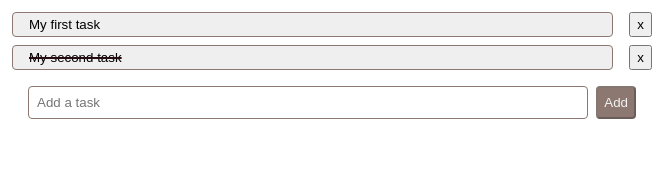
it: TodoListPanel › when added a new todo › should update the list
Step 1. Type "My third task" into the field with placeholder "Add a task" → [308, 102], box [28,86,588,119]
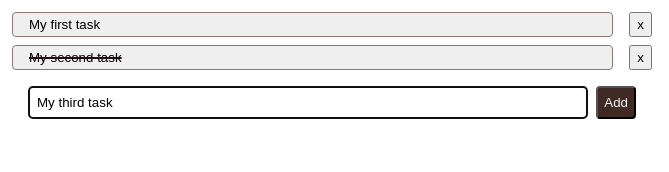
Step 2. Click the button "Add" → [616, 102], box [596,86,636,119]
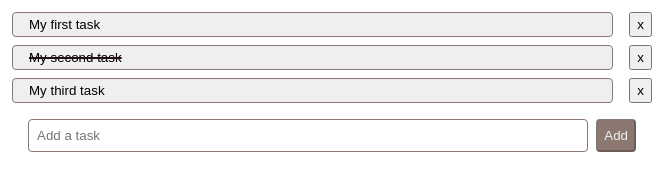
Expected: the button "My third task" is shown, [12,78,613,103]
